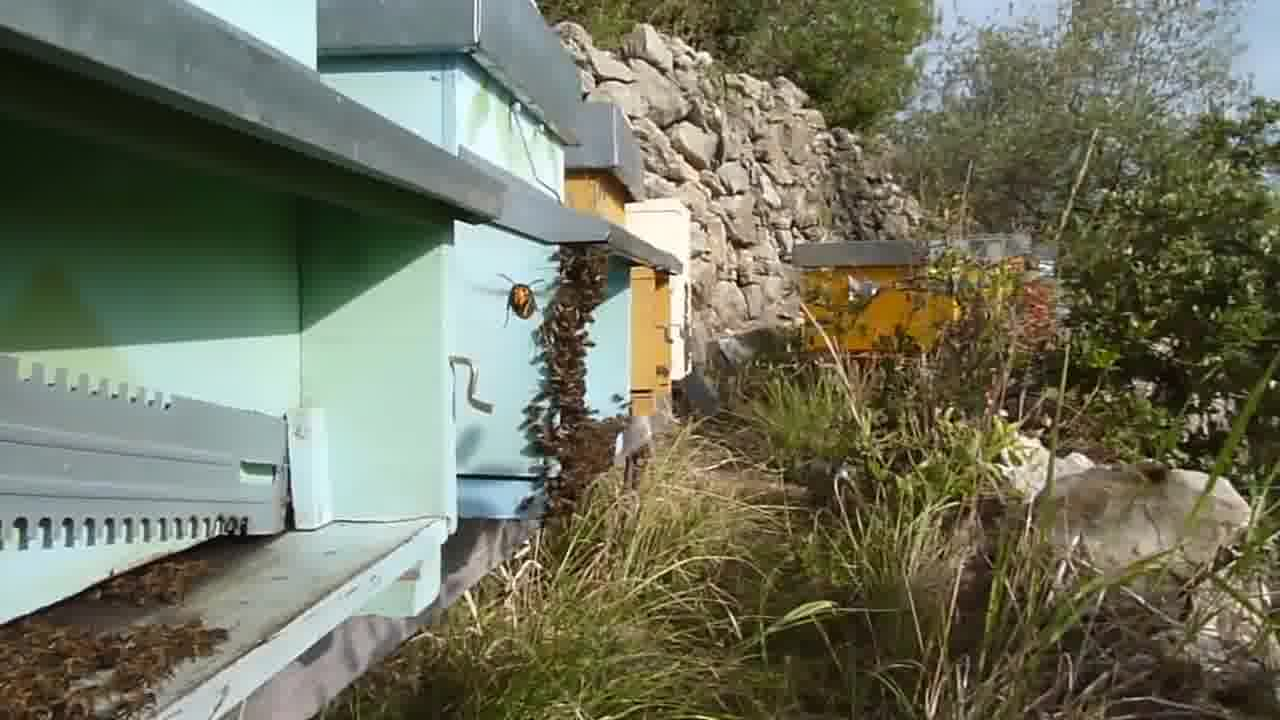bee: (3, 656, 161, 720), (6, 622, 230, 659), (521, 412, 621, 486), (96, 554, 210, 608), (550, 246, 616, 320), (536, 320, 591, 406)
hornet: (502, 271, 541, 326)
